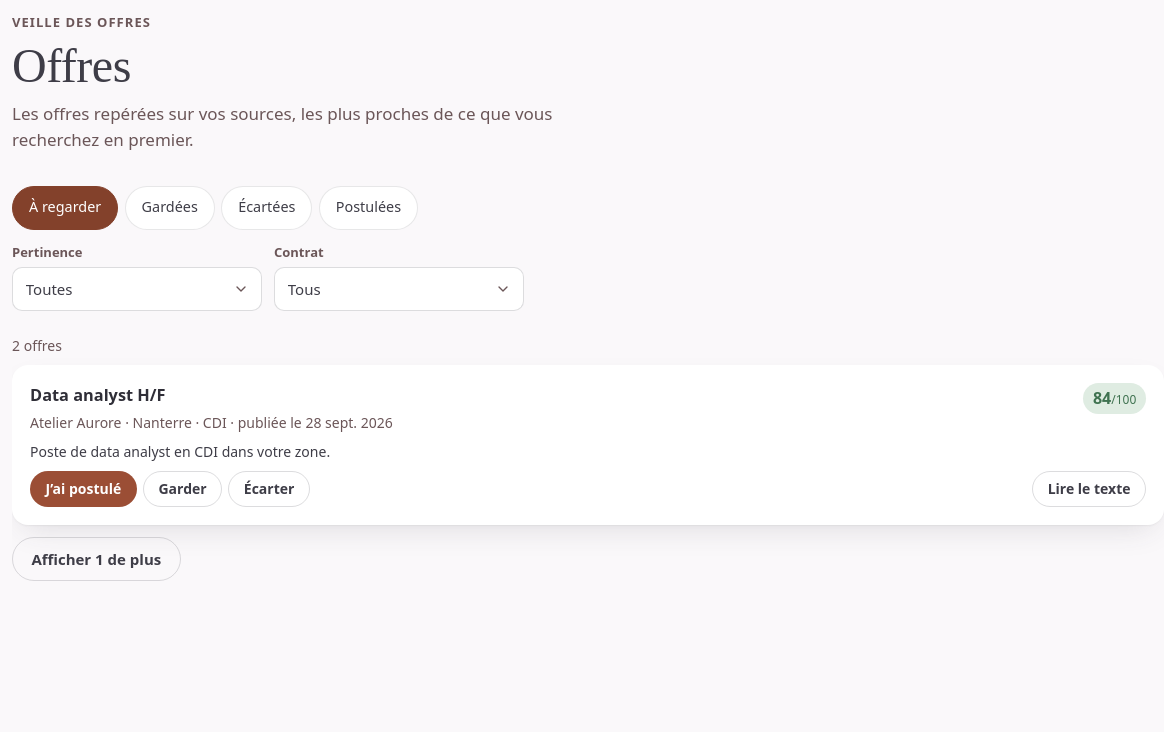
Scenario: OffersPage › [EF-VEI-16] loads the next page on demand
This screenshot has width=1164, height=732.
Click the button "Afficher 1 de plus". click: {"x": 96, "y": 559}
box: [12,537,181,581]
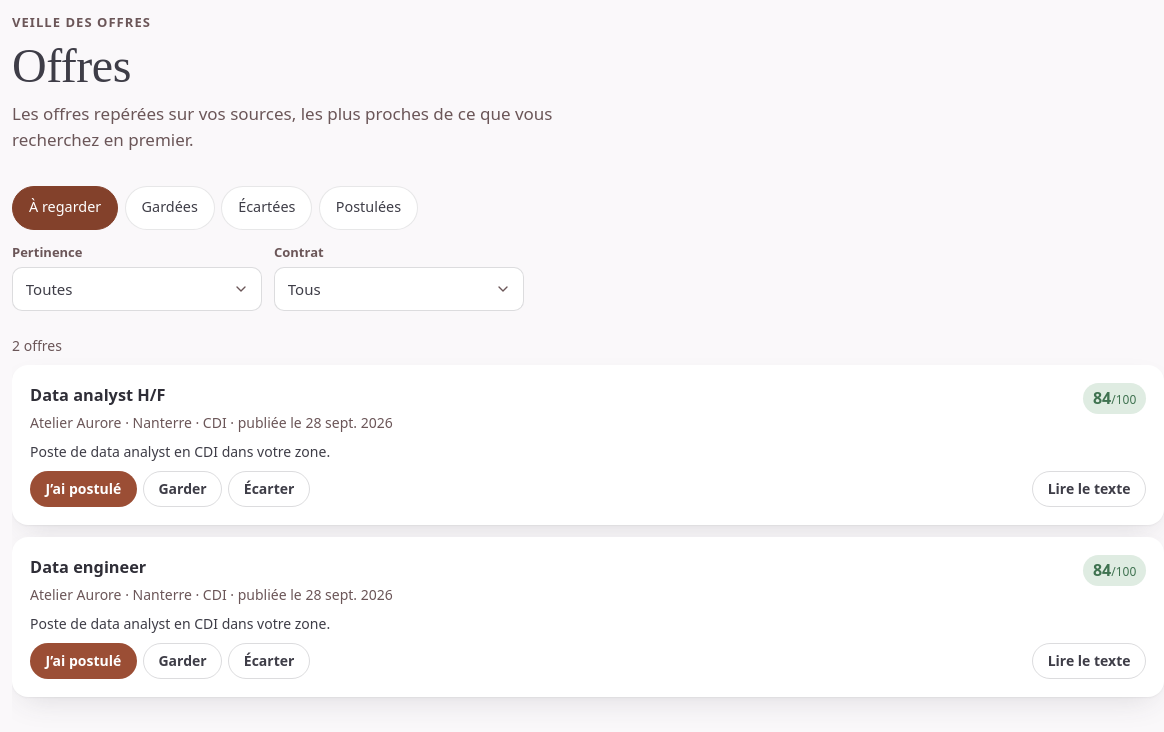
Check: the link "Data analyst H/F" is shown, box [30,383,351,406]
Check: the link "Data engineer" is shown, box [30,555,332,578]
